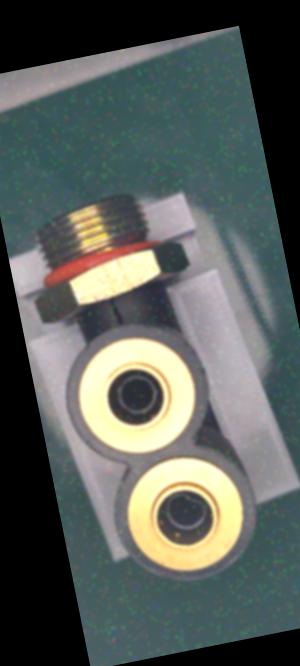craze: (103, 293, 127, 328)
off-centered: (151, 478, 220, 544)
